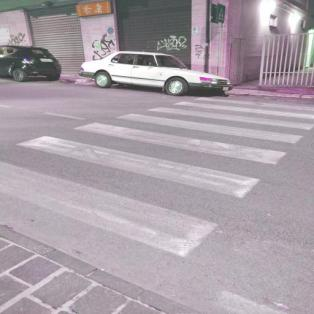Paso de Cebra: (11, 119, 290, 200)
